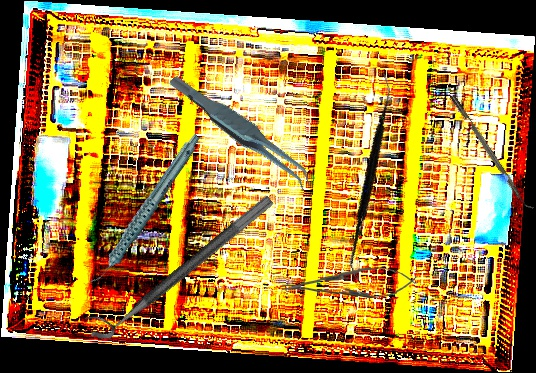Chopper: (450, 90, 536, 214)
Fixation Ring: (79, 179, 276, 348)
Handpiece: (62, 132, 227, 288)
Needle Holder: (279, 264, 418, 303)
Spatula Surgical: (290, 72, 453, 284)
Tissue Forceps: (167, 50, 316, 213)
